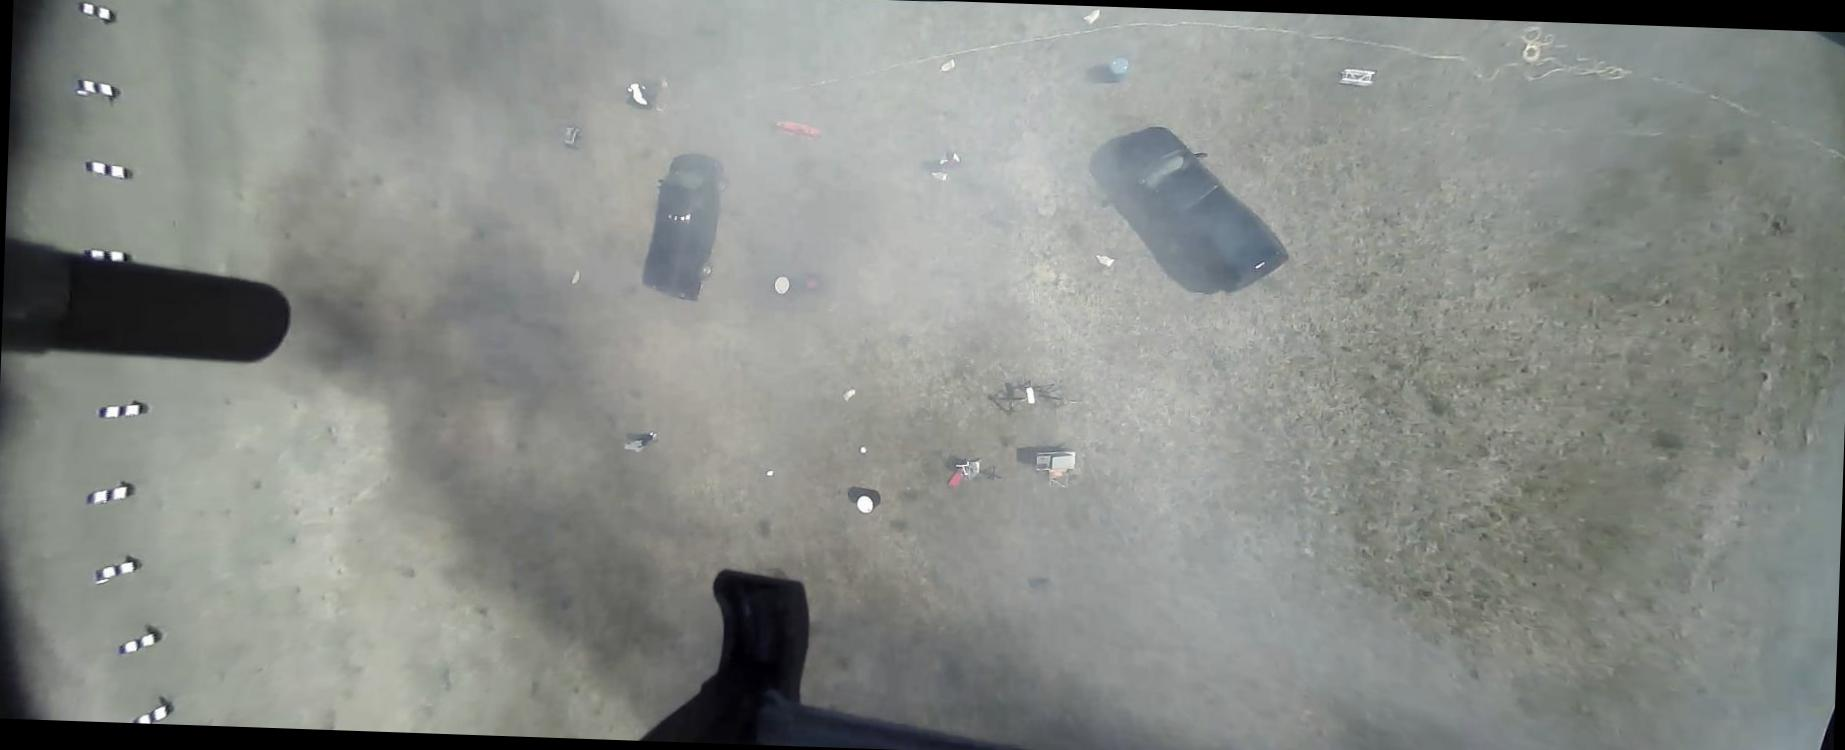vehicle: (1107, 123, 1294, 296), (640, 150, 728, 303)
